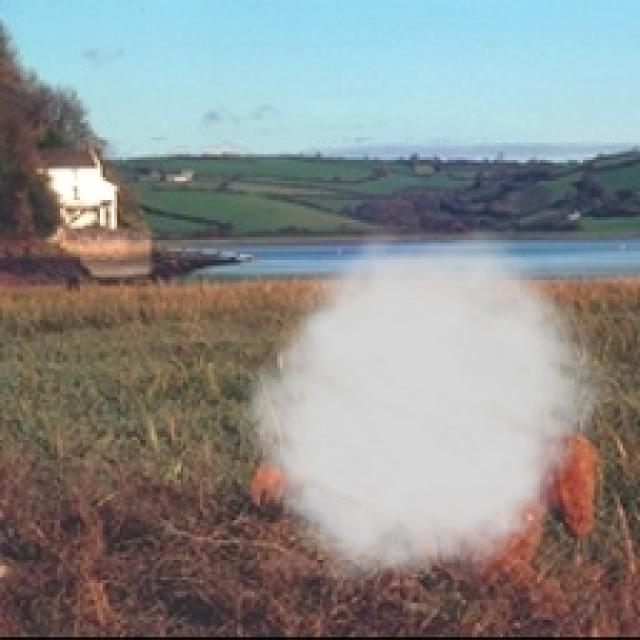smoke: (229, 226, 617, 597)
